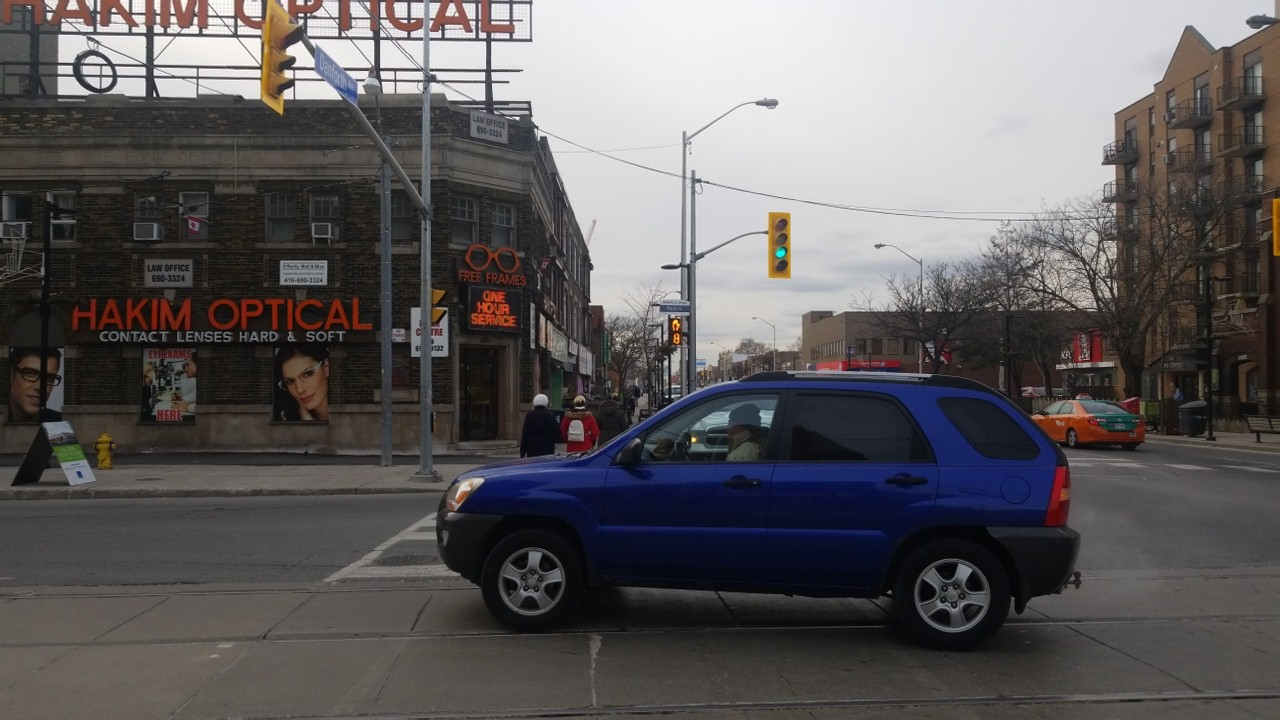light: (667, 316, 683, 347)
